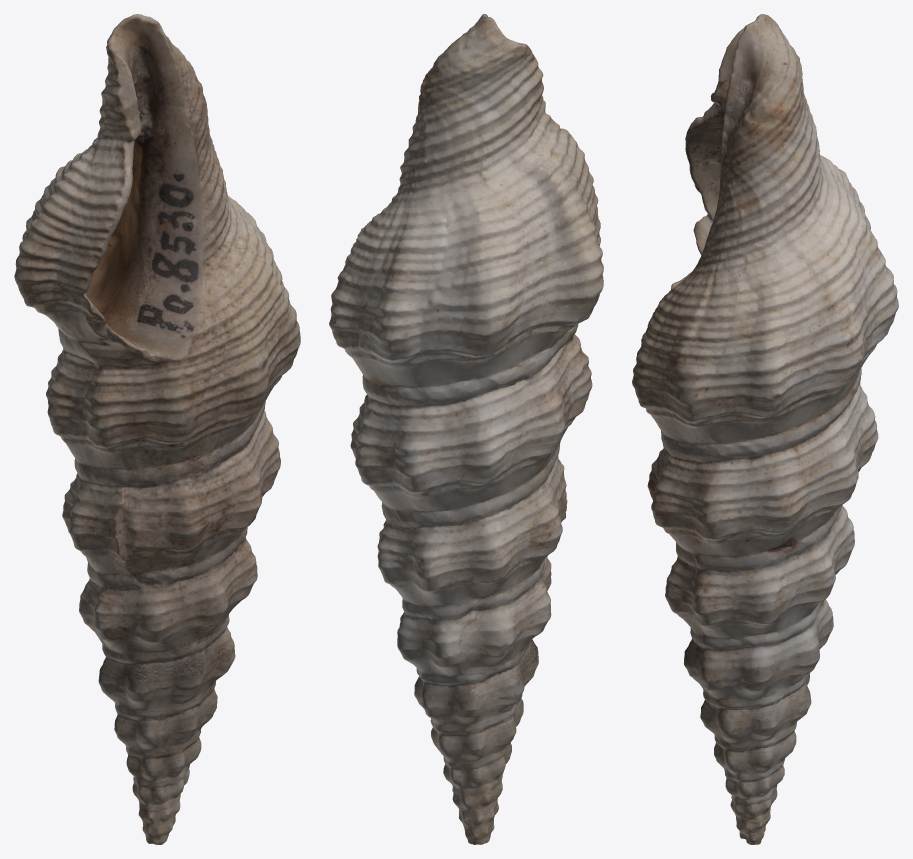
The model's file is EWS0014035.glb.
3 renders of one model, left to right at view 1: azimuth 30°, elevation 25°; view 2: azimuth 150°, elevation 25°; view 3: azimuth 270°, elevation 25°, orthographic.
Visible parts, largest first — view 1: input; view 2: input; view 3: input.
Part boxes in pixels (left/top/right/bottom): input: left=14, top=14, right=300, bottom=844; input: left=329, top=14, right=603, bottom=844; input: left=632, top=14, right=898, bottom=844.
Bounding box in the file's own units: 0.0152 × 0.046 × 0.0136.
Materials: 1 (1 with a texture image).
